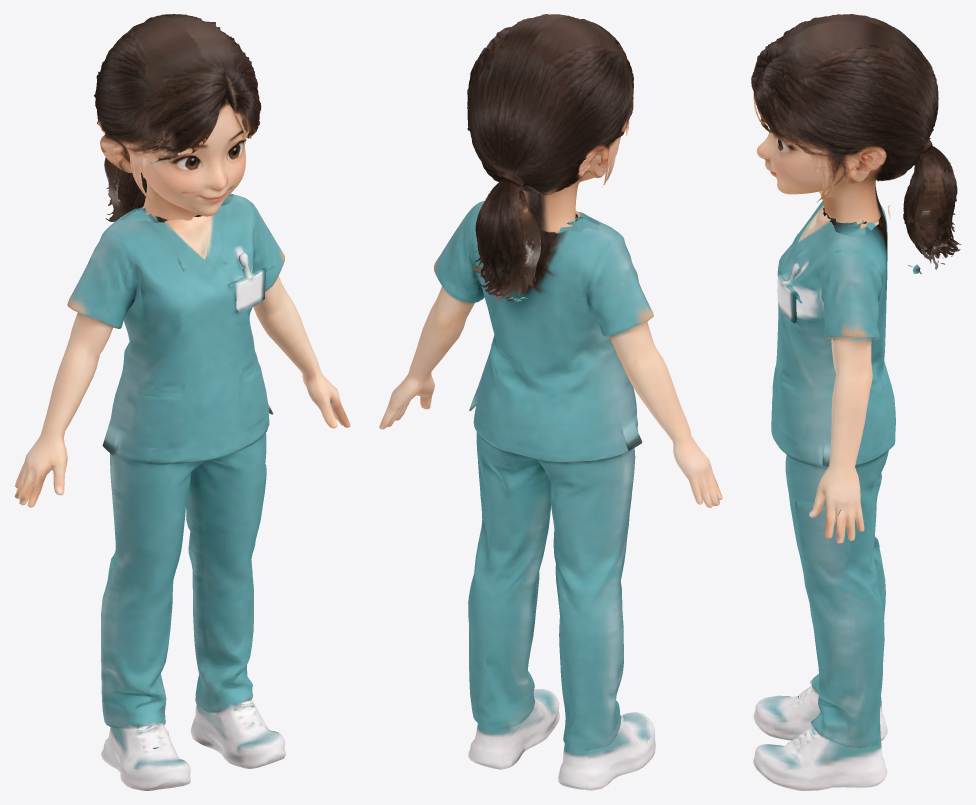
Rendered from nurse-reference-20261020.glb.
3 views of the same model, side by side, from view 1: azimuth 30°, elevation 25°; view 2: azimuth 150°, elevation 25°; view 3: azimuth 270°, elevation 25° (orthographic).
Parts seen in each view (by area): view 1: Mesh_0.001, Mesh_0; view 2: Mesh_0.001, Mesh_0; view 3: Mesh_0.001, Mesh_0.
Part boxes in pixels (<box>): Mesh_0.001: <box>14,193,350,790</box>; Mesh_0: <box>94,14,261,221</box>; Mesh_0.001: <box>379,200,722,790</box>; Mesh_0: <box>467,14,633,302</box>; Mesh_0.001: <box>753,201,921,790</box>; Mesh_0: <box>751,14,960,269</box>.
Size of the model in its own units: 0.7782 by 1.65 by 0.4287.
Materials: 2 (2 with a texture image).
